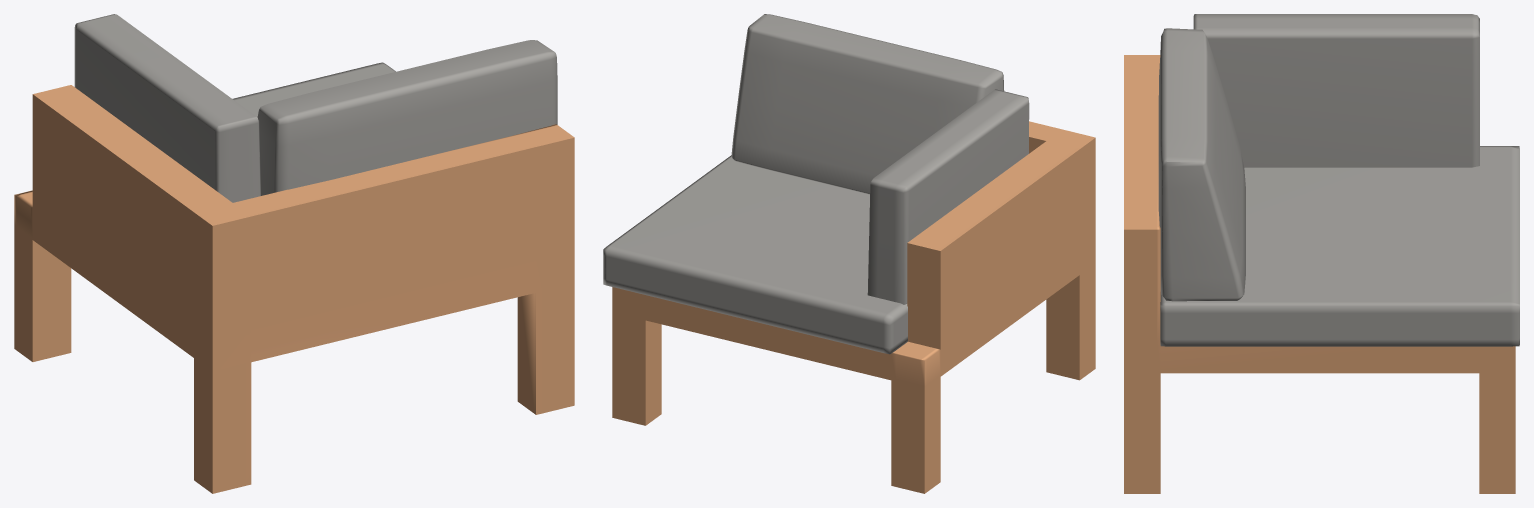
File: MSH_EstanciaRoof_SillonInd.fbx
3 renders of one model, left to right at view 1: azimuth 30°, elevation 25°; view 2: azimuth 150°, elevation 25°; view 3: azimuth 270°, elevation 25°, orthographic. The views are drawn at different scales.
Parts seen in each view (by area): view 1: MSH_EstanciaRoof_SillonInd; view 2: MSH_EstanciaRoof_SillonInd; view 3: MSH_EstanciaRoof_SillonInd.
Part boxes in pixels (x1=…): MSH_EstanciaRoof_SillonInd: x1=14, y1=14, x2=574, y2=493; MSH_EstanciaRoof_SillonInd: x1=603, y1=14, x2=1095, y2=493; MSH_EstanciaRoof_SillonInd: x1=1124, y1=14, x2=1519, y2=493.
Bounding box in the file's own units: 113 × 99.12 × 106.
